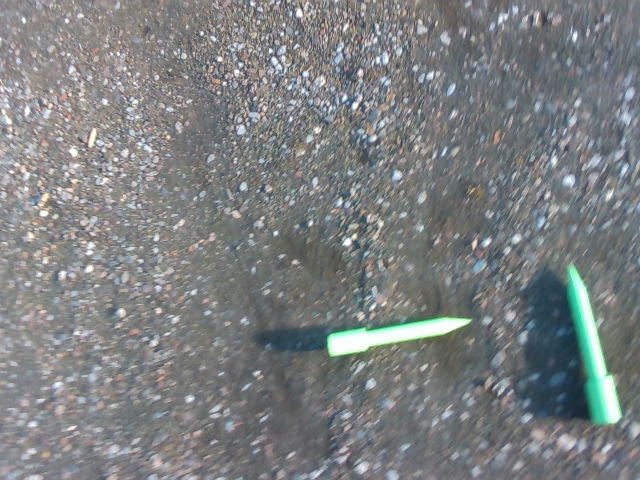Probe: (560, 252, 625, 434), (325, 308, 474, 363)
